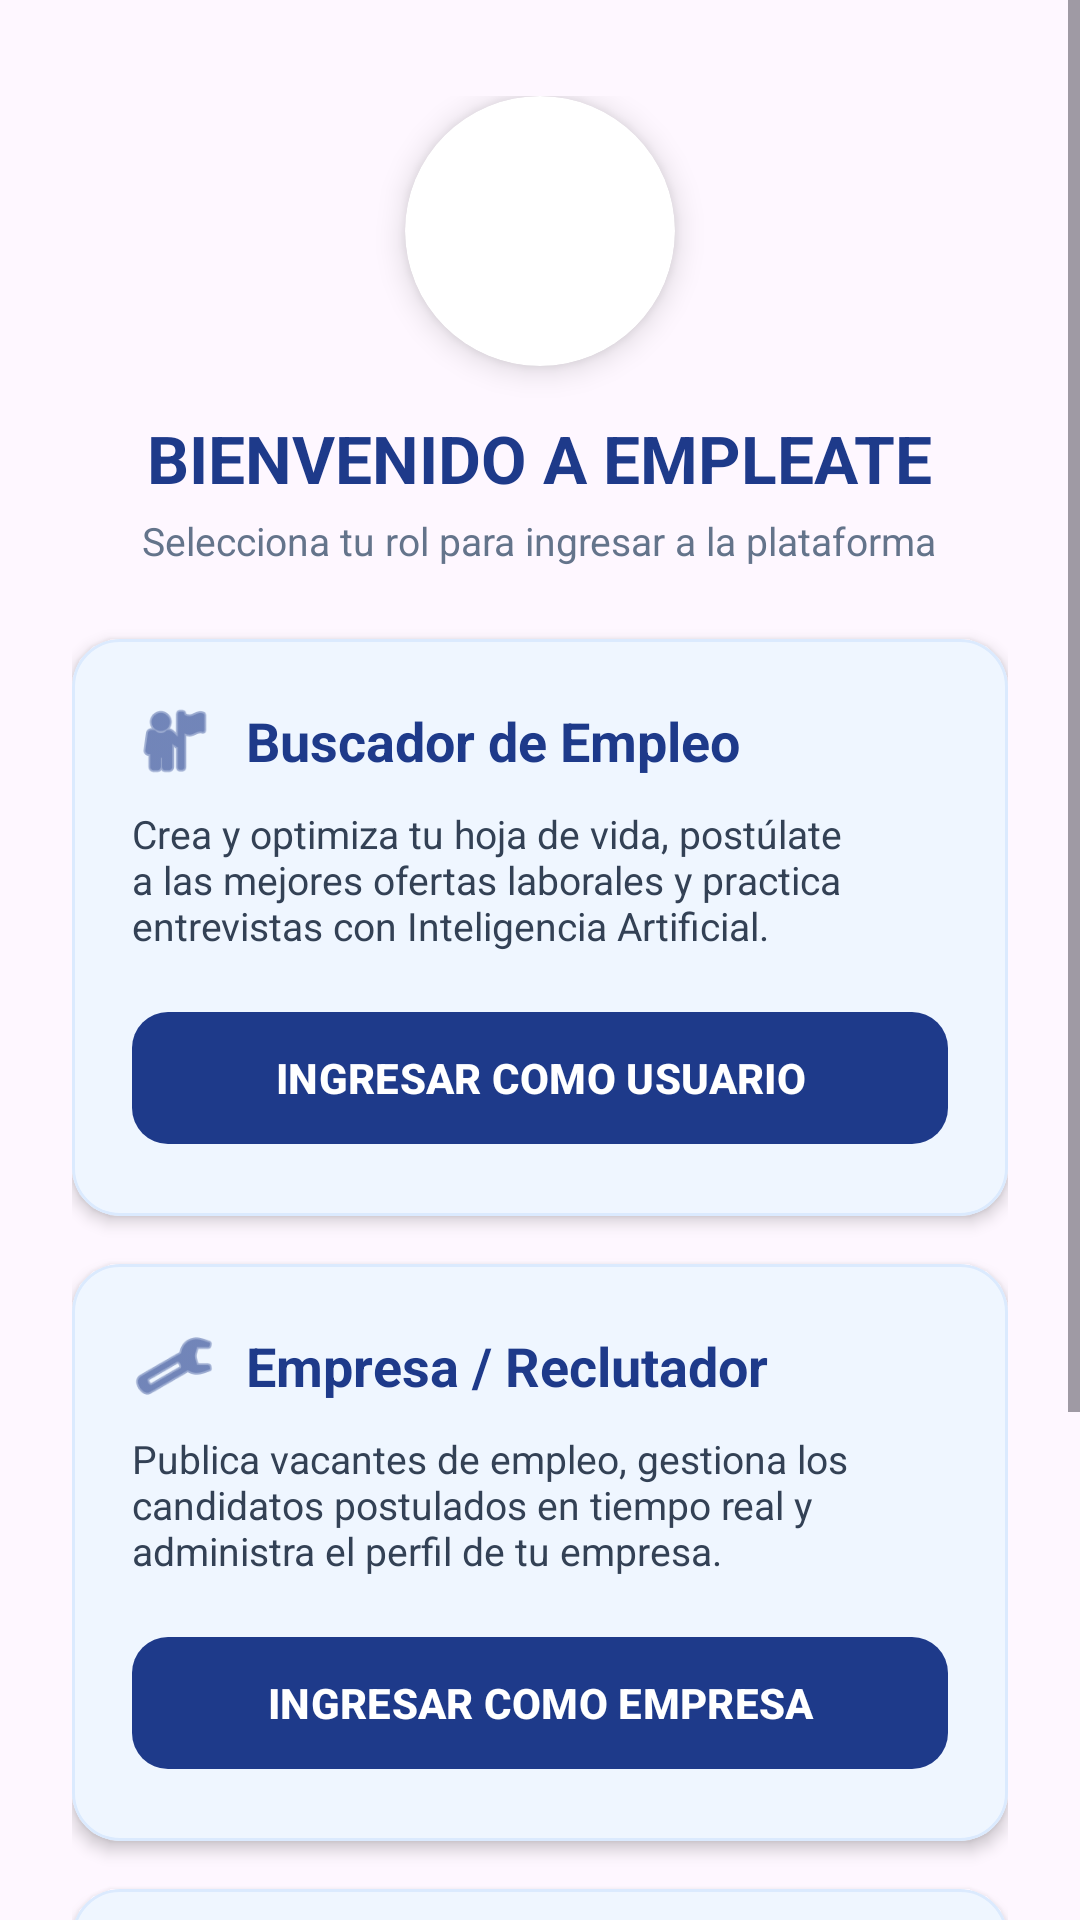

Icons on this 1080*1920 Android screen, each with the point to tap as (x=x, y=y):
Icono Usuario: (x=174, y=741)
